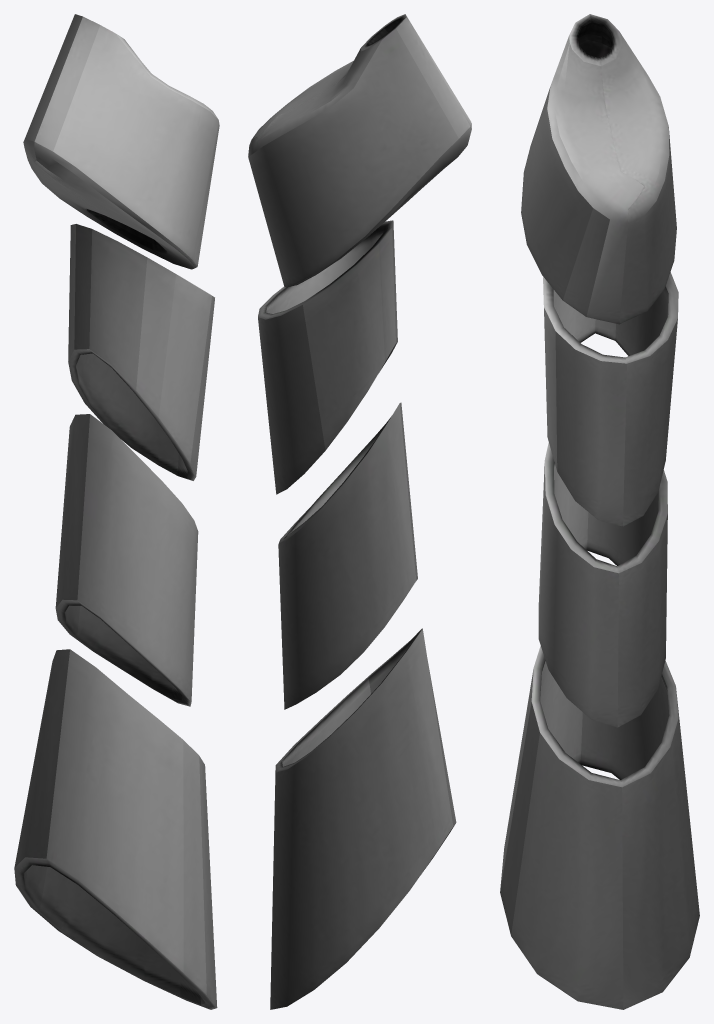
File: body.obj
The picture shows the model from 3 angles, left to right: view 1: azimuth 30°, elevation 25°; view 2: azimuth 150°, elevation 25°; view 3: azimuth 270°, elevation 25°; orthographic projection. The views are drawn at different scales.
Parts seen in each view (by area): view 1: body.obj; view 2: body.obj; view 3: body.obj.
Boxes of the visible parts, x1=… form: body.obj: x1=14, y1=14, x2=219, y2=1009; body.obj: x1=248, y1=14, x2=471, y2=1009; body.obj: x1=500, y1=14, x2=699, y2=1009.
Bounding box in the file's own units: 0.2947 × 1.45 × 0.2785.
Materials: 1 (1 with a texture image).
